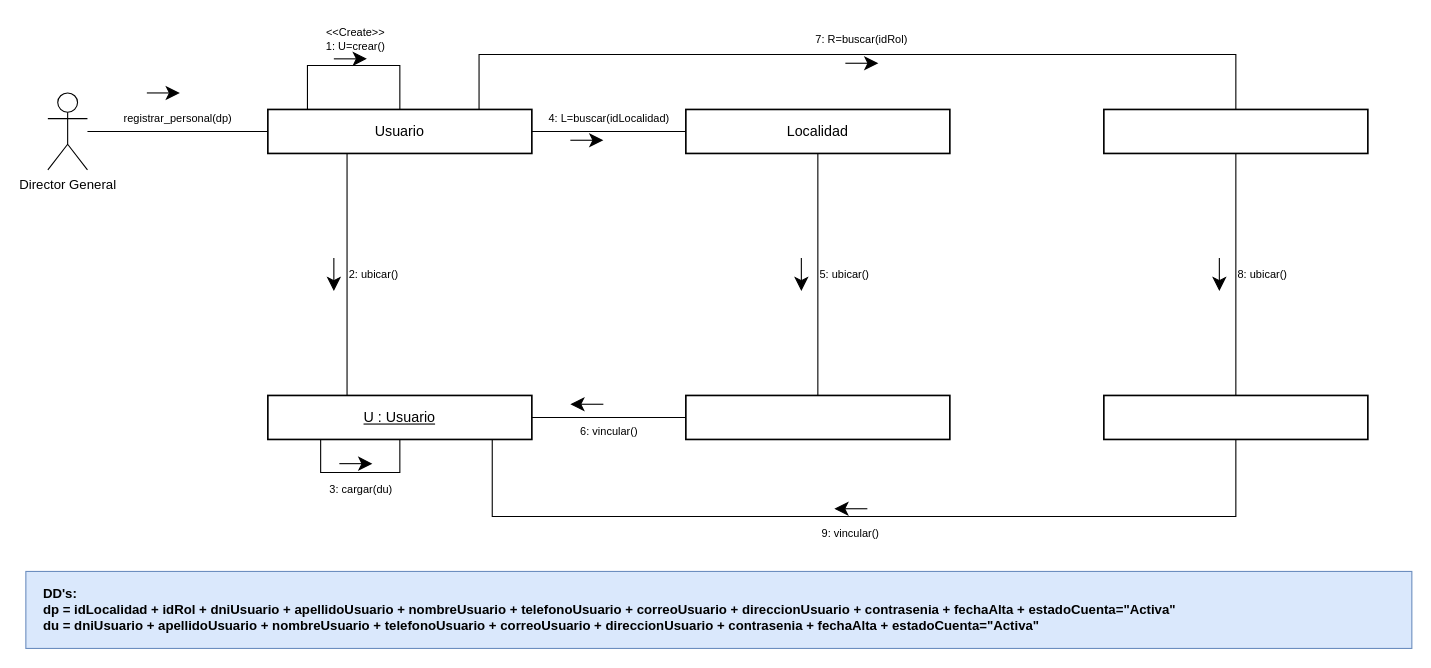
Some shapes in this 1431 by 668 pixel diagram are drawn without their labels. Here are the shapes that lost their labels. From the top down, the box of each, then its label:
(1103, 108, 1368, 154): Rol
(685, 394, 950, 440): L : Localidad
(1103, 394, 1368, 440): R : Rol
